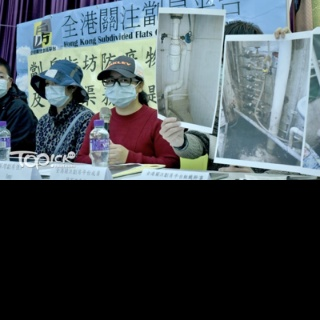with_mask: (105, 73, 138, 107), (45, 77, 70, 107), (0, 70, 10, 100)
